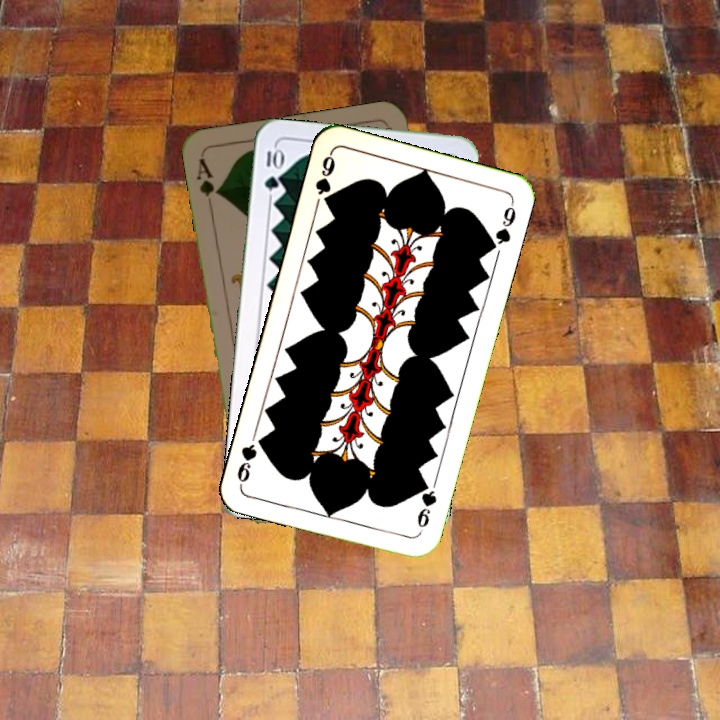G10: (260, 143, 284, 194)
G9: (311, 148, 338, 209), (413, 476, 440, 536)
GA: (192, 154, 223, 212)
